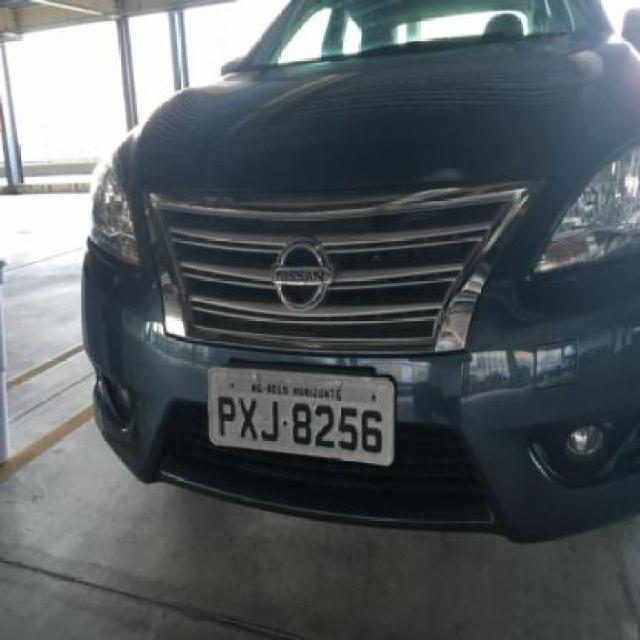old_plate: (202, 361, 404, 474)
